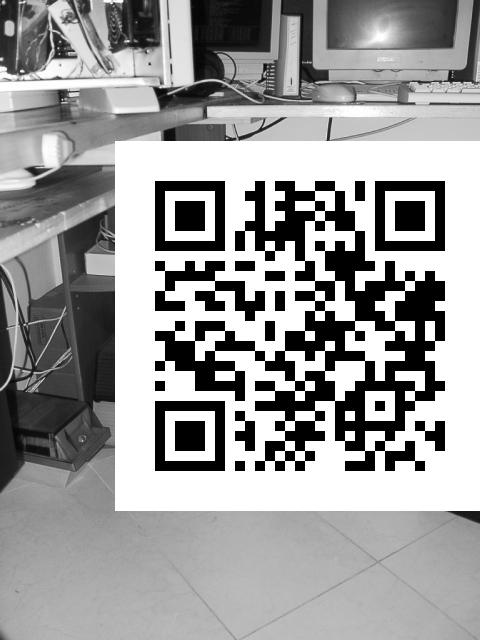qr_code: (116, 142, 480, 510)
